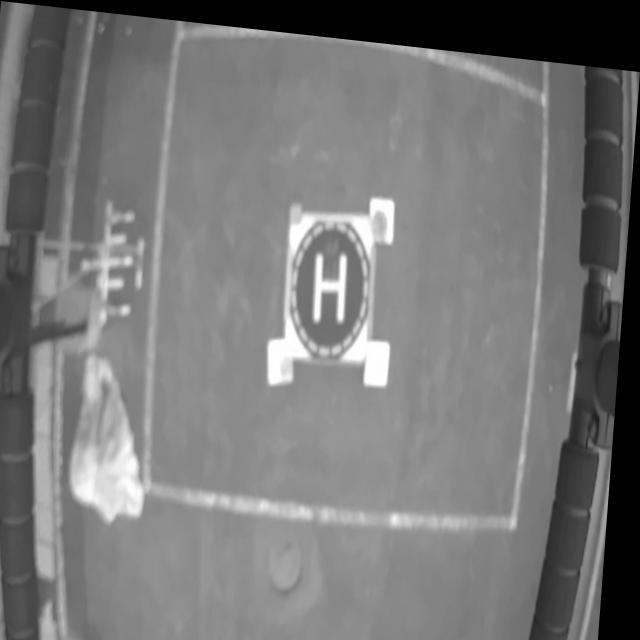Helipad: (317, 242, 350, 313)
